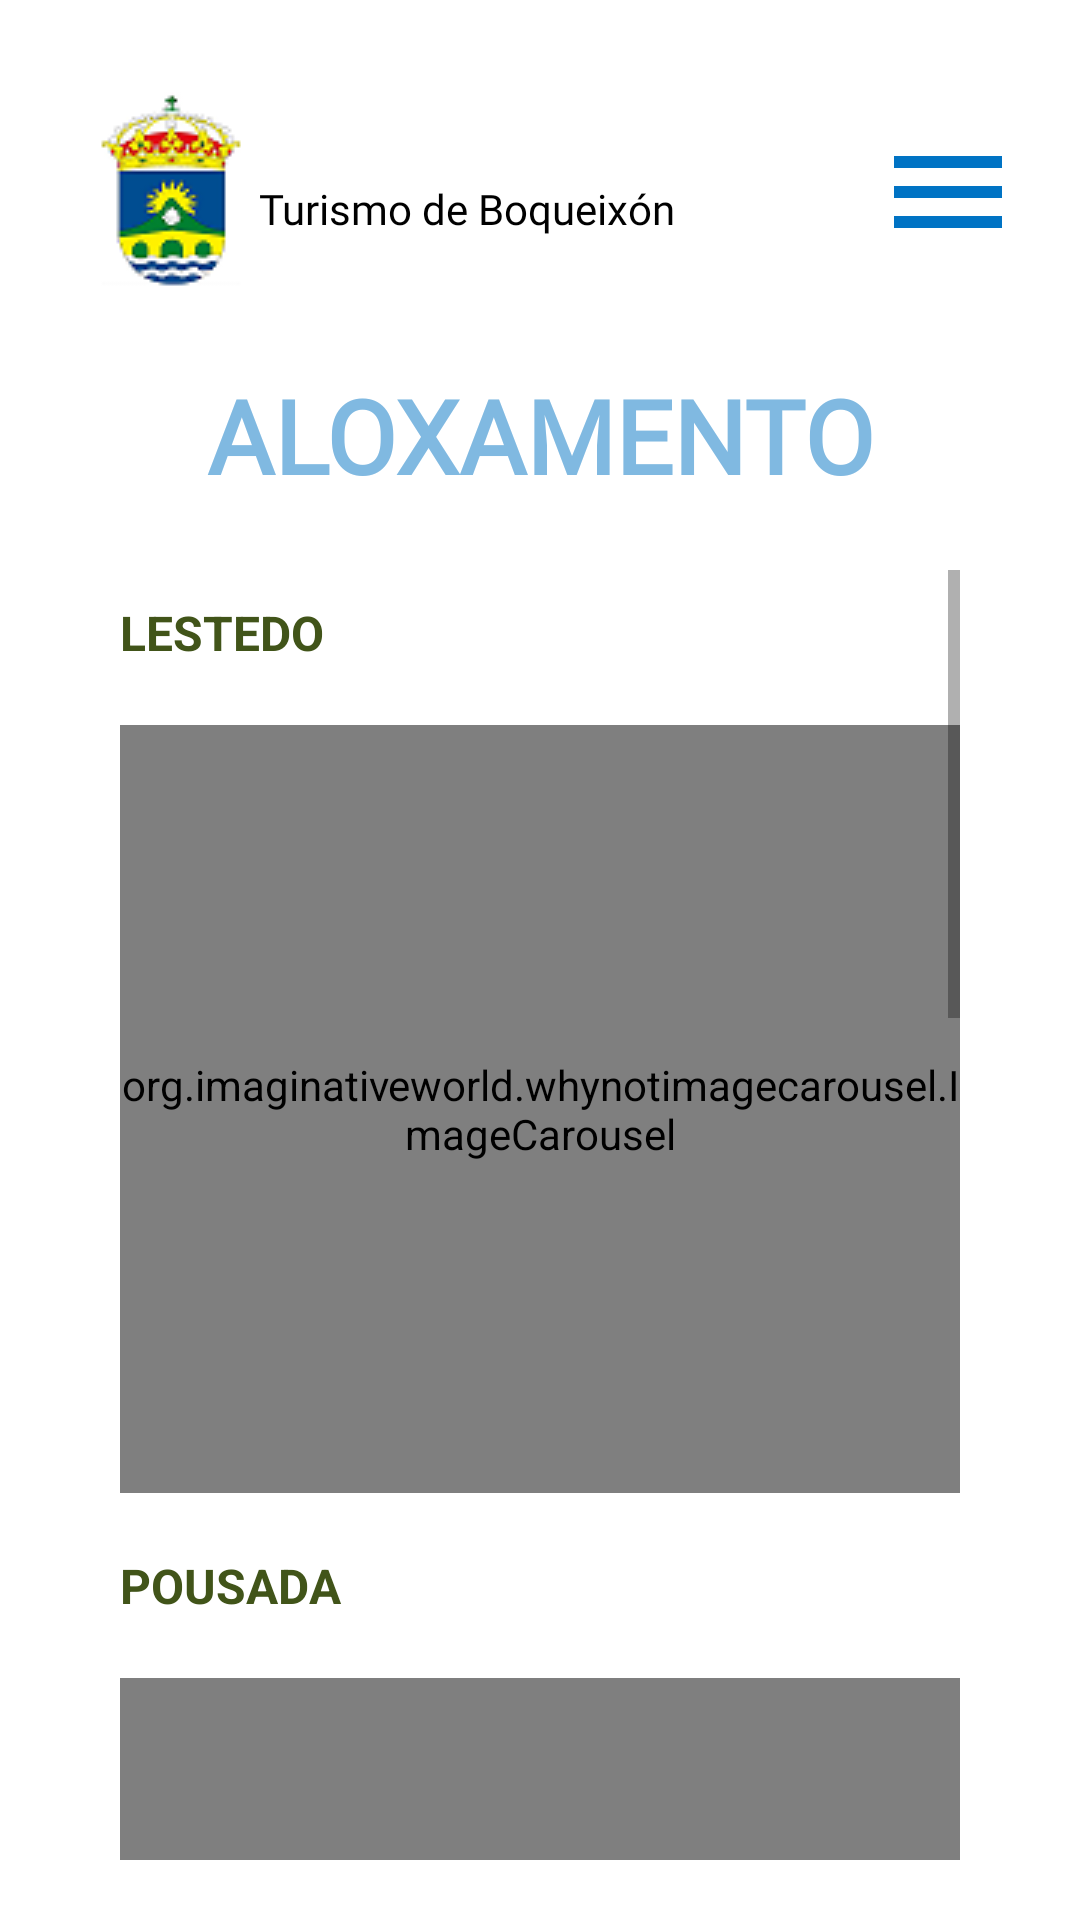

Locate icon controls on the screen. Image size 1080 x 1920, boxes as (x1,y1,x2,y2).
hamburguesa: (894,156,1002,228)
